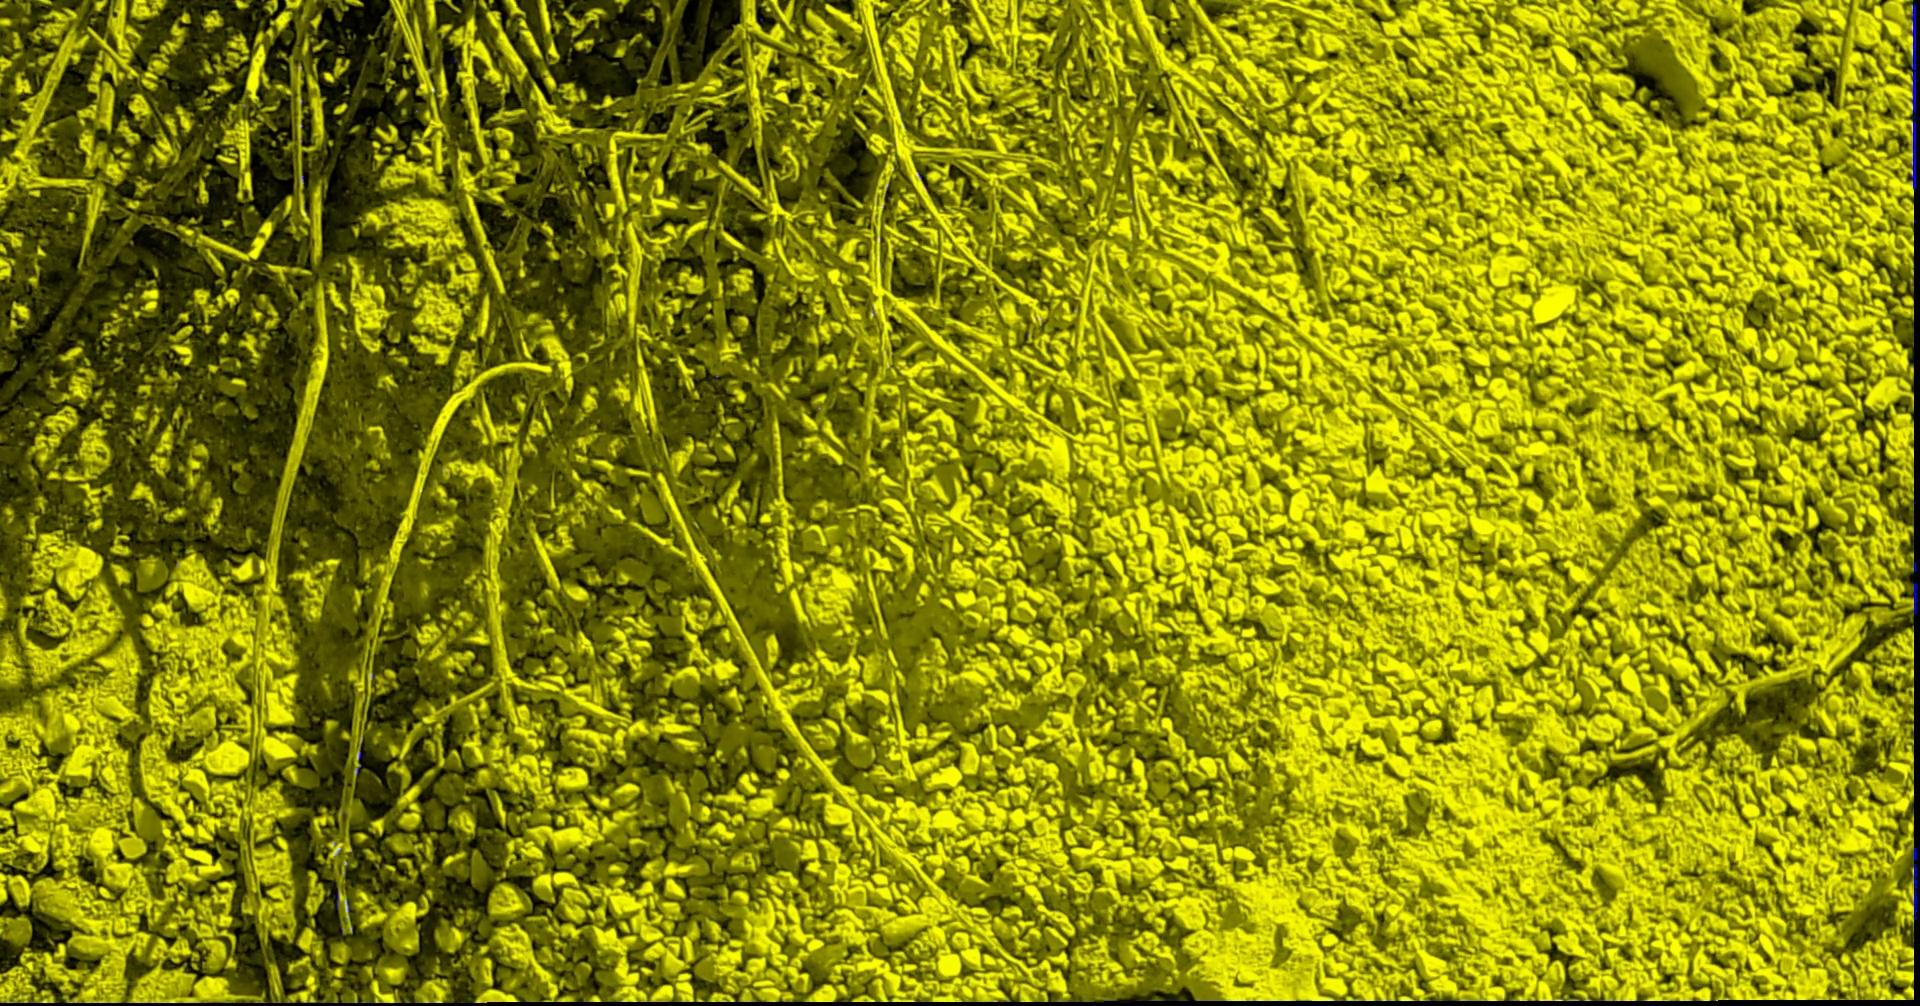ant: (1910, 3, 1916, 191), (1912, 845, 1919, 920), (1912, 582, 1919, 615)
